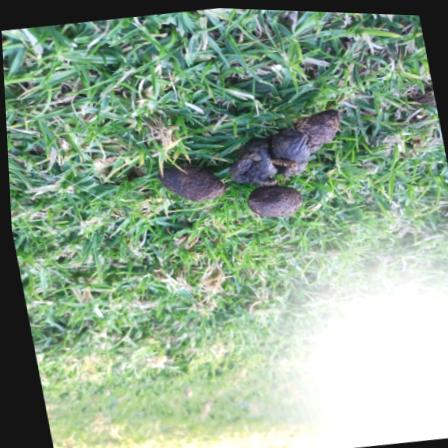dog-poop: (140, 92, 365, 245)
